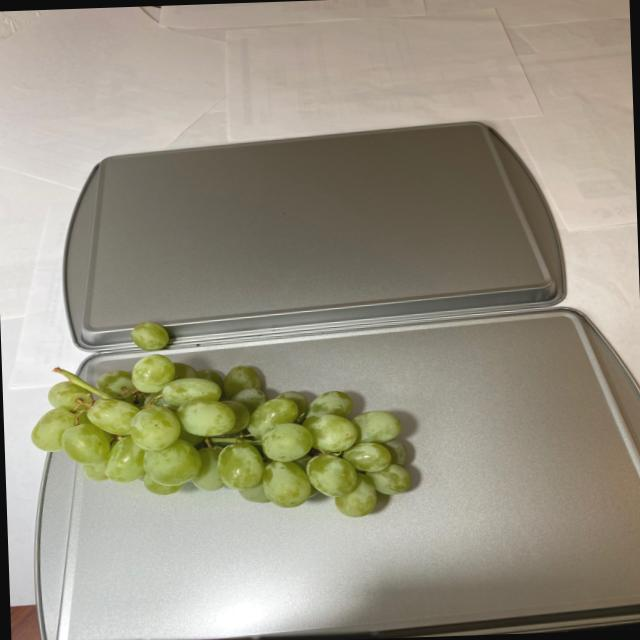grapes: (28, 349, 414, 524), (129, 319, 170, 353)
